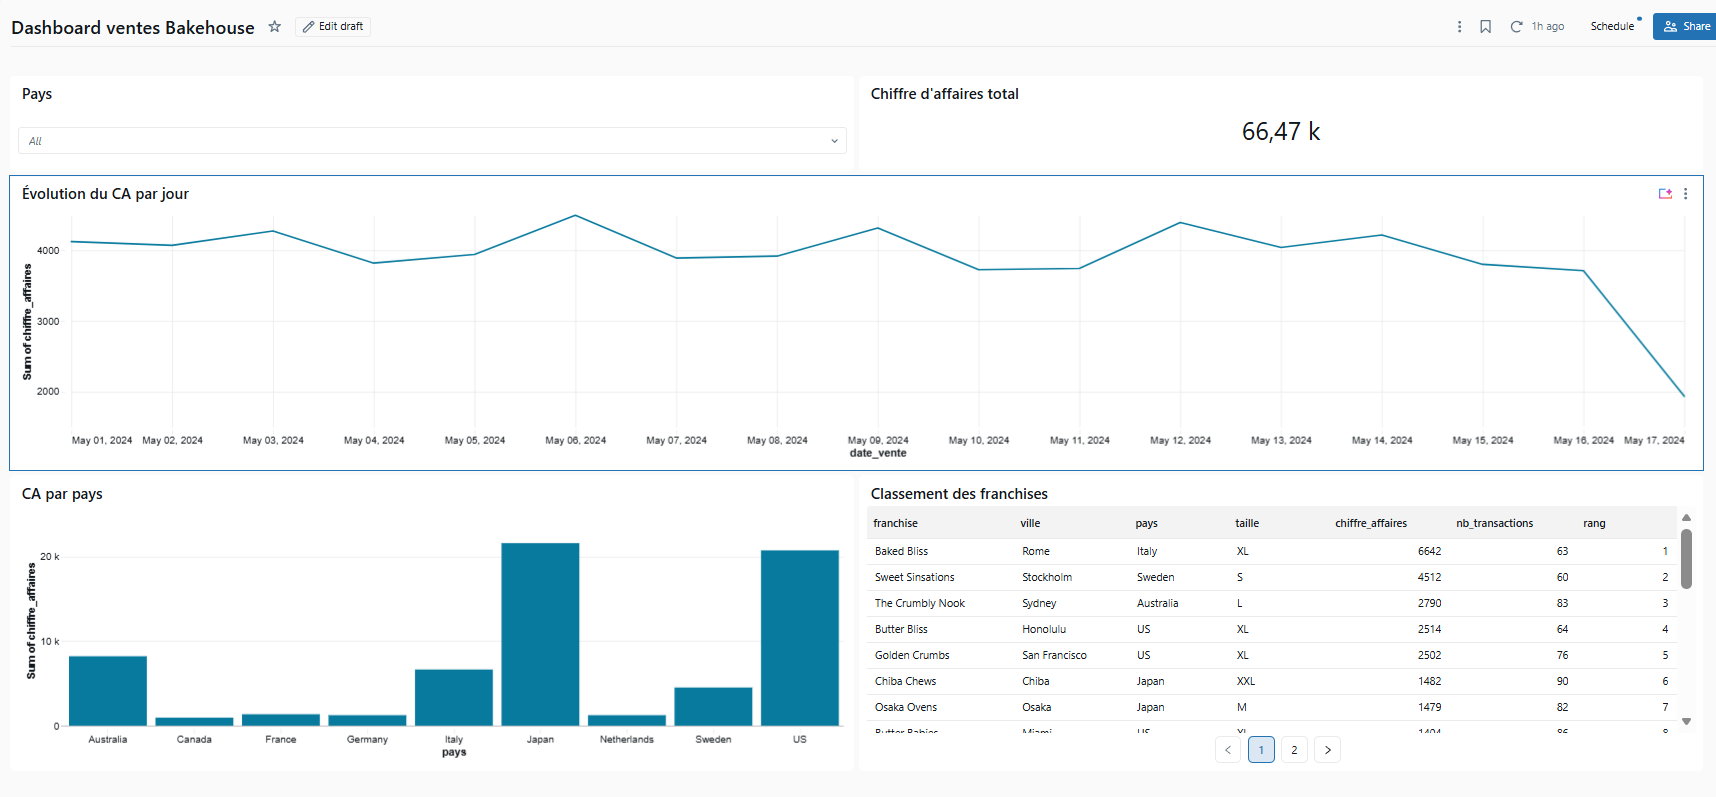

The dashboard page shown, as its layout file describes it:
{"tool":"powerbi","page":{"name":"Synthèse des ventes","canvas":[1920,1080],"ordinal":0},"visuals":[{"type":"cardVisual","fields":{"Data":["Sum(ca_pays_jour.chiffre_affaires)"]},"box":[15,105,435,150],"z":0},{"type":"cardVisual","fields":{"Data":["ca_pays_jour.Panier moyen"]},"box":[495,105,435,150],"z":1000},{"type":"cardVisual","fields":{"Data":["Sum(ca_pays_jour.nb_transactions)"]},"box":[975,105,435,150],"z":2000},{"type":"slicer","title":"Pays","fields":{"Values":["ca_pays_jour.pays"]},"box":[1455,105,450,150],"z":3000},{"type":"lineChart","title":"Évolution du CA par jour","fields":{"Category":["ca_pays_jour.date_vente"],"Y":["Sum(ca_pays_jour.chiffre_affaires)"]},"box":[0,270,1890,390],"z":4000},{"type":"clusteredColumnChart","title":"CA par pays","fields":{"Category":["ca_pays_jour.pays"],"Y":["Sum(ca_pays_jour.chiffre_affaires)"]},"box":[15,675,938,390],"z":5000},{"type":"tableEx","title":"Classement des franchises","fields":{"Values":["classement_franchises.rang","classement_franchises.franchise","classement_franchises.ville","classement_franchises.pays","Sum(classement_franchises.chiffre_affaires)"]},"box":[960,675,937,390],"z":6000},{"type":"textbox","box":[0,0,1920,91],"z":7000}]}

Visuals, with their boxes on the page's 1920x1080 design canvas (x1, y1, x2, y2). These are canvas units, not pixel positions in the 1716x797 screenshot, which may show the page scaled, cropped or inside an application window:
cardVisual - Sum(ca_pays_jour.chiffre_affaires): locate(15, 105, 450, 255)
cardVisual - ca_pays_jour.Panier moyen: locate(495, 105, 930, 255)
cardVisual - Sum(ca_pays_jour.nb_transactions): locate(975, 105, 1410, 255)
"Pays" slicer: locate(1455, 105, 1905, 255)
"Évolution du CA par jour" lineChart: locate(0, 270, 1890, 660)
"CA par pays" clusteredColumnChart: locate(15, 675, 953, 1065)
"Classement des franchises" tableEx: locate(960, 675, 1897, 1065)
textbox: locate(0, 0, 1920, 91)
